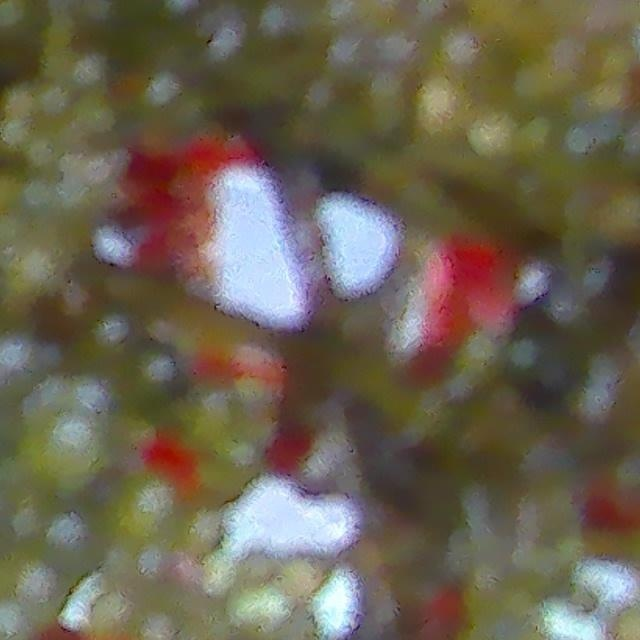SeaGrape: (18, 409, 109, 497)
